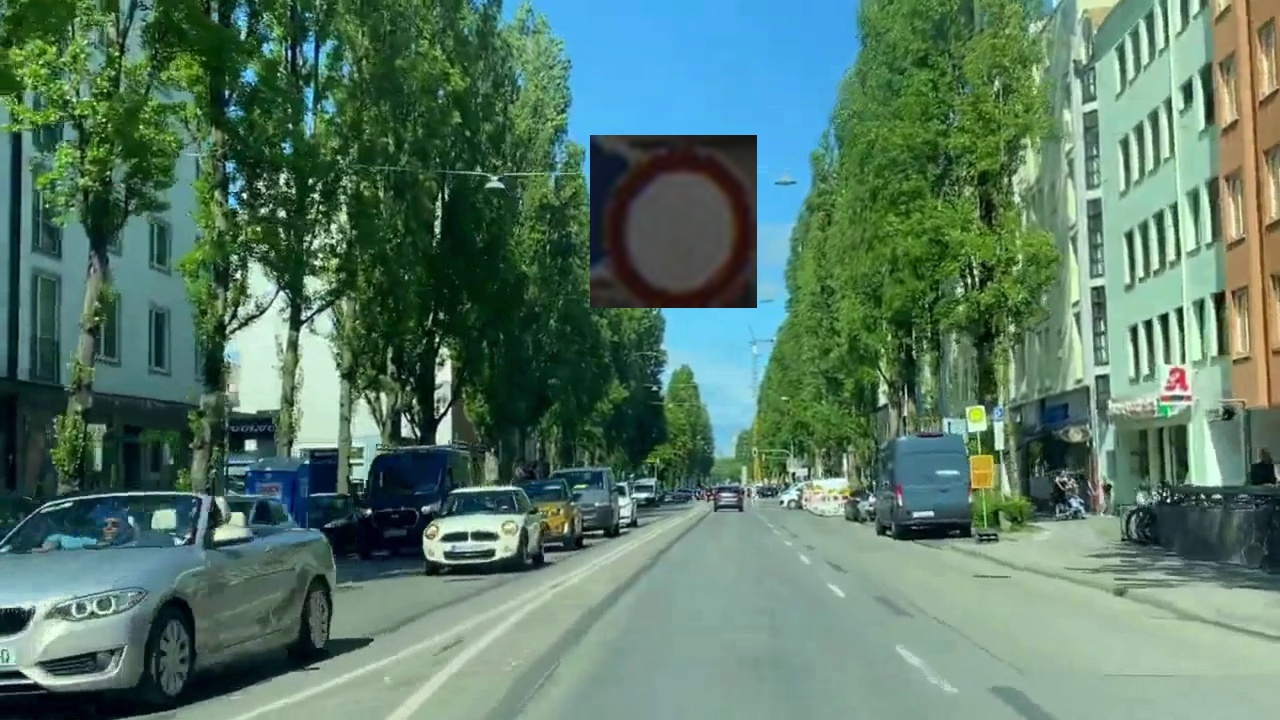No vehicles: (590, 135, 757, 308)
